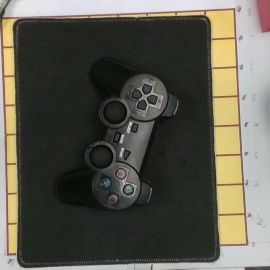remote: (55, 57, 179, 208)
